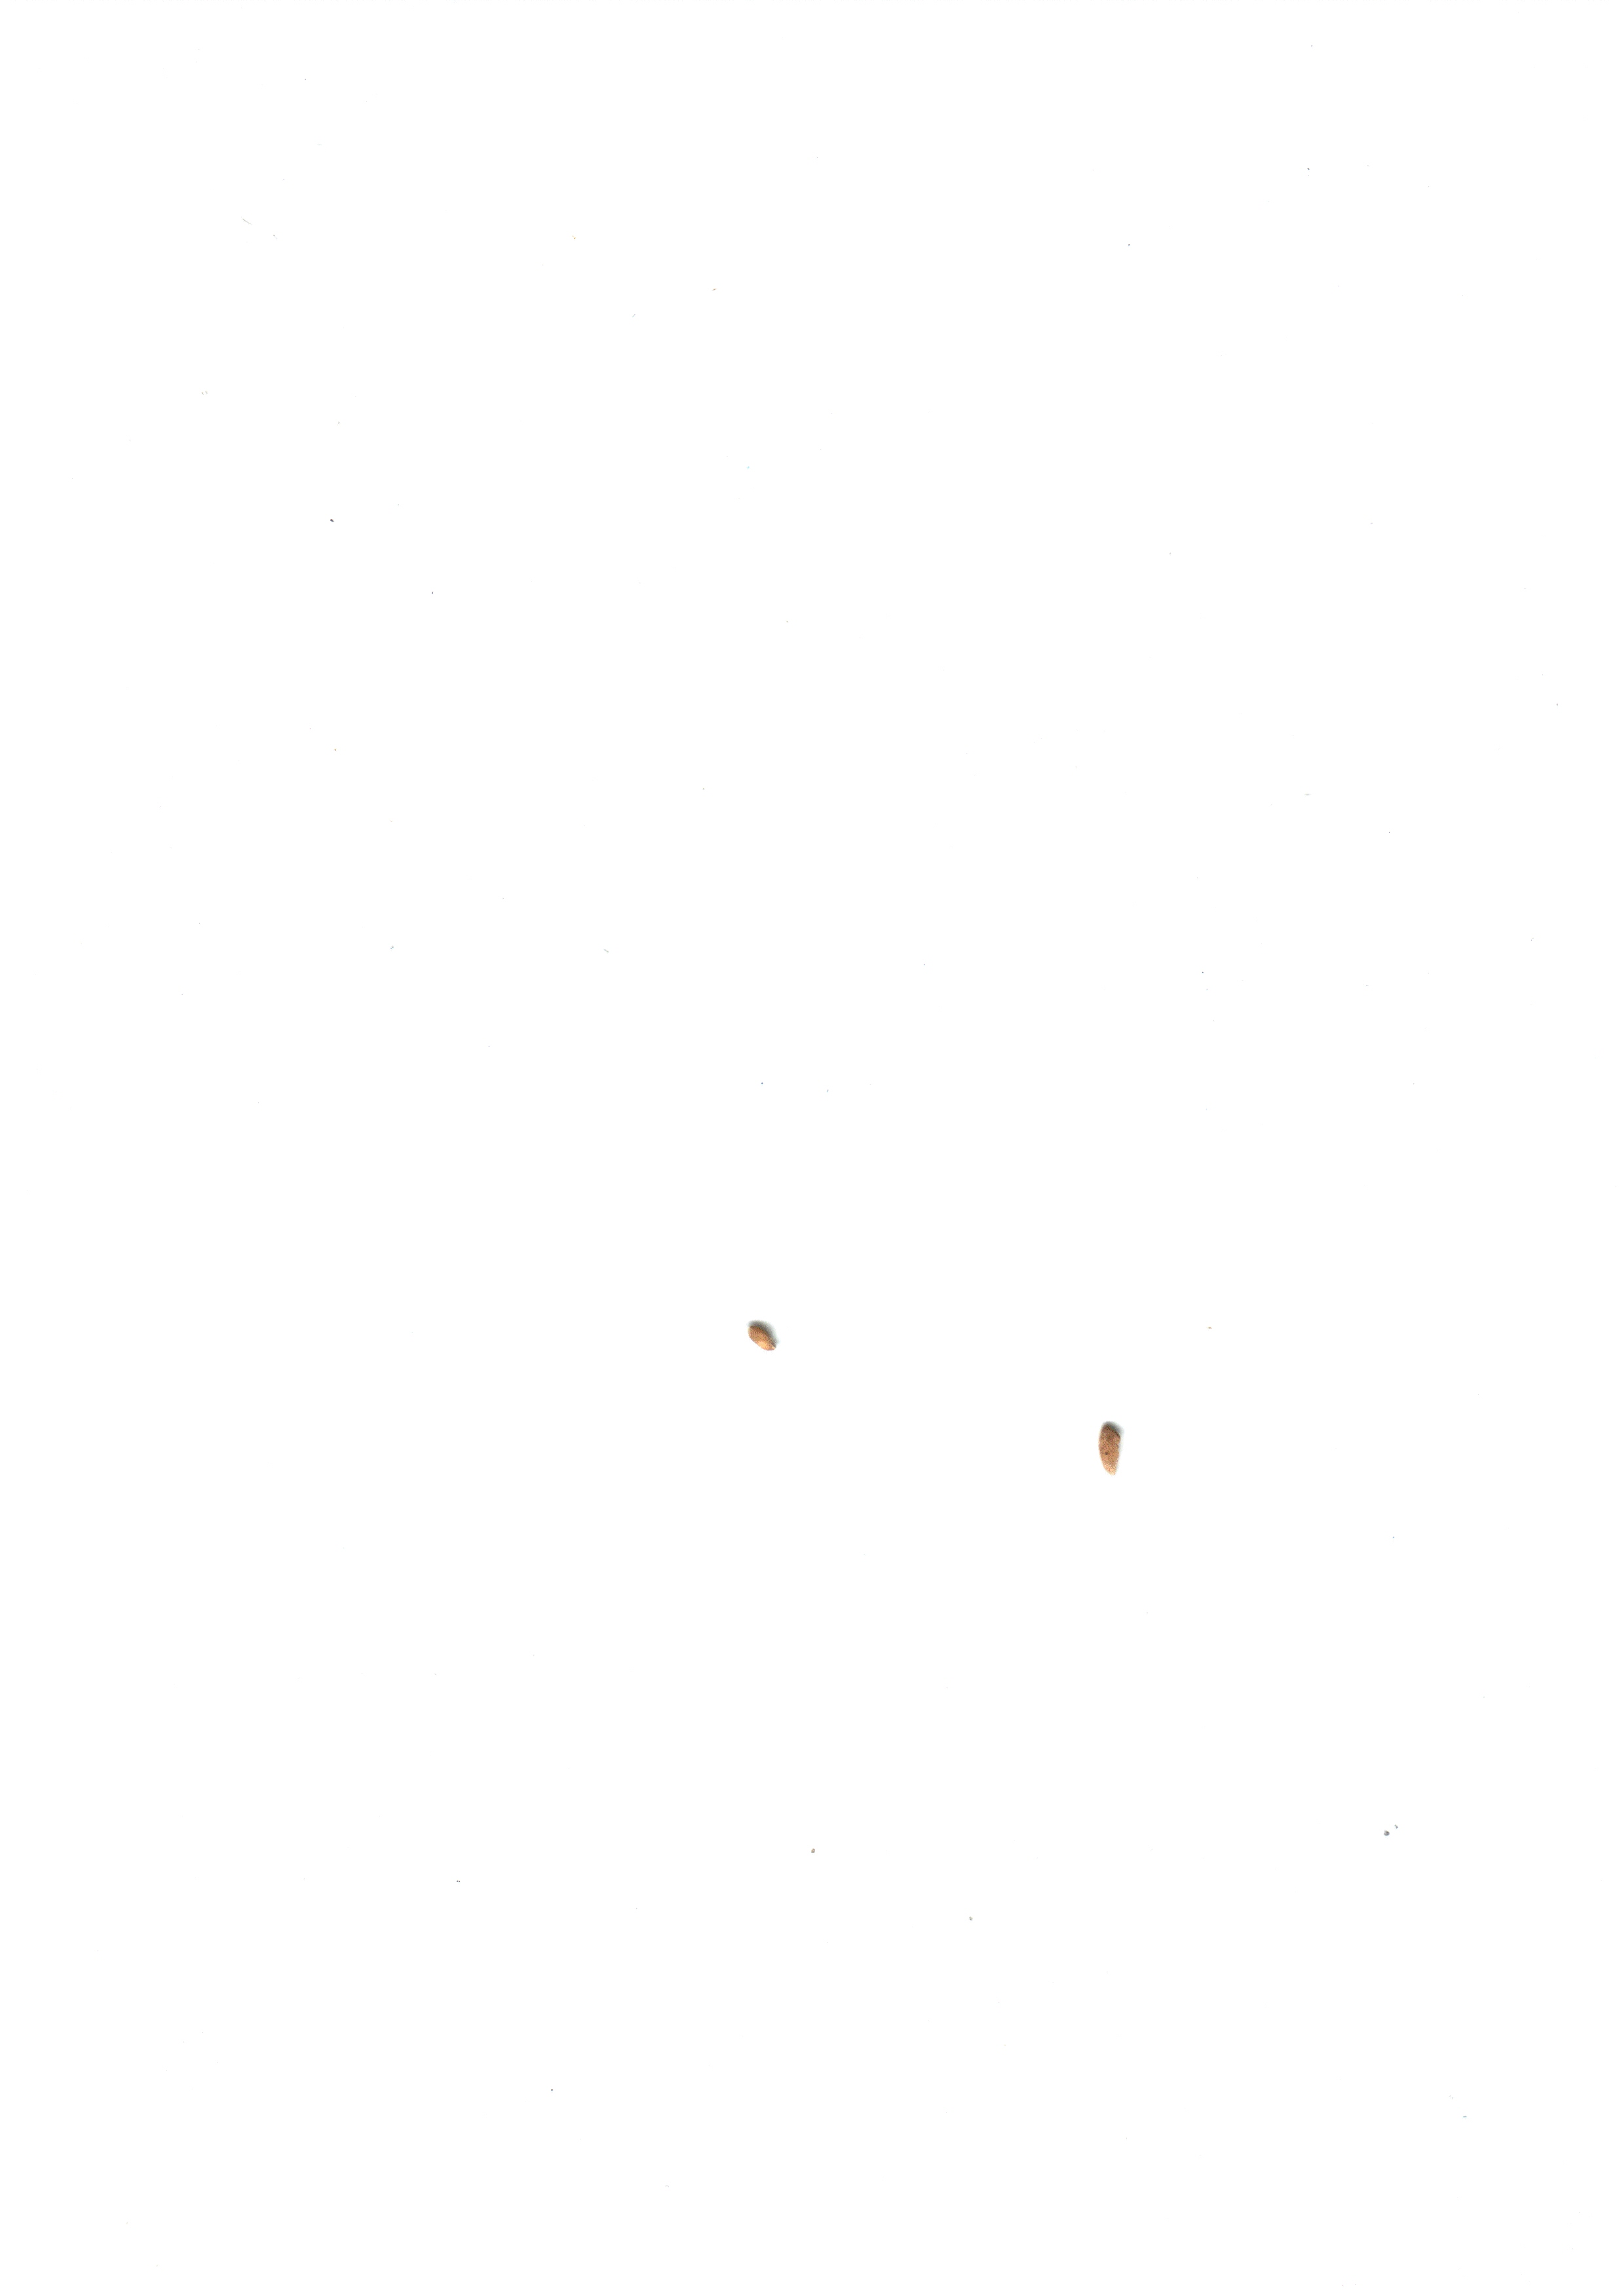grains_2mm: (736, 1306, 785, 1369), (1095, 1413, 1128, 1481)
